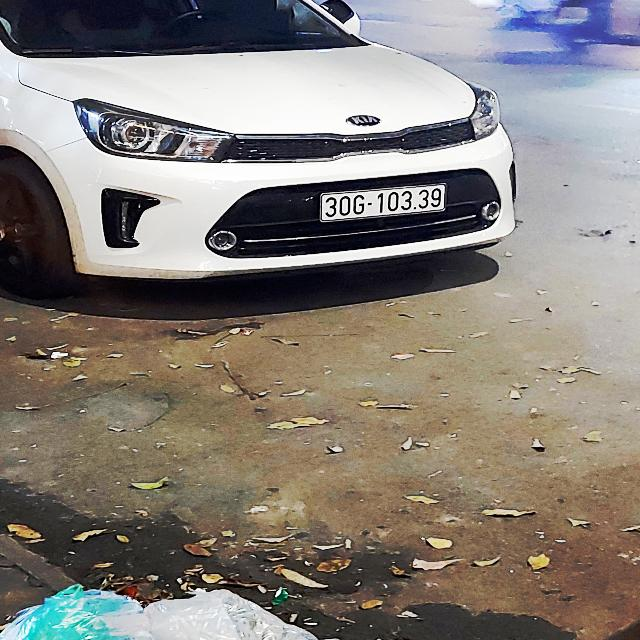license_plate: (323, 186, 445, 223)
